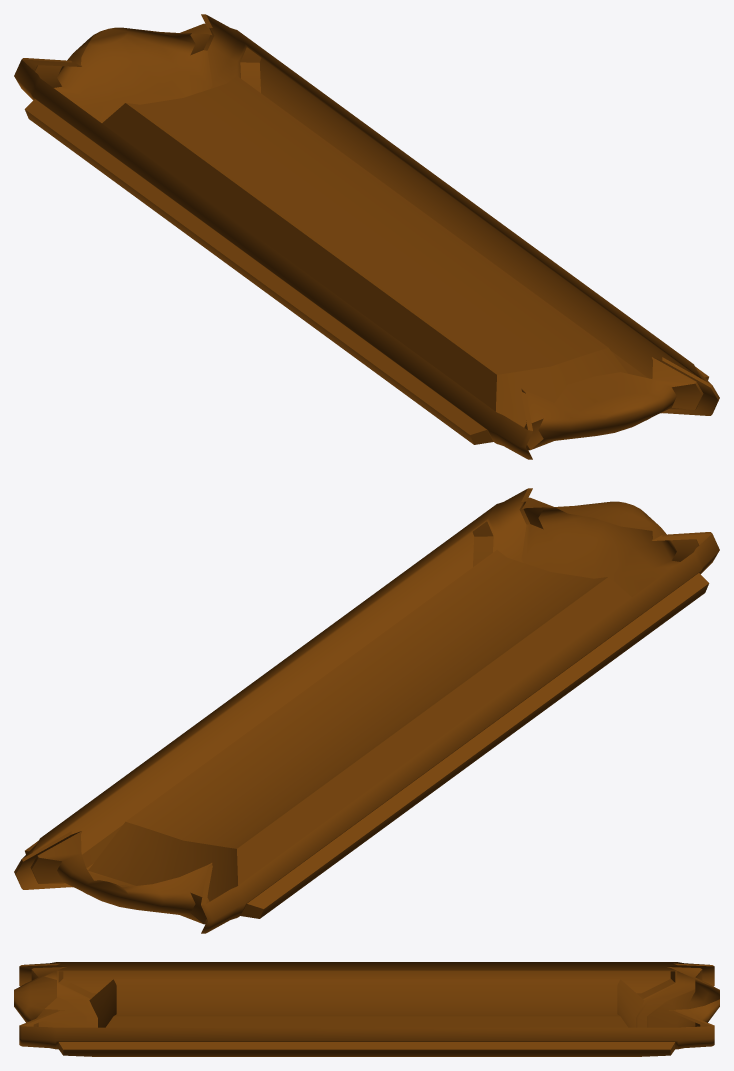
The model's file is Ceiling Light support.FBX.
3 renders of one model, top to bottom at view 1: azimuth 30°, elevation 25°; view 2: azimuth 150°, elevation 25°; view 3: azimuth 270°, elevation 25°, orthographic. The views are drawn at different scales.
Visible parts, largest first — view 1: OilTank001; view 2: OilTank001; view 3: OilTank001.
Part boxes in pixels (x1=…): OilTank001: x1=14, y1=14, x2=719, y2=459; OilTank001: x1=14, y1=488, x2=719, y2=933; OilTank001: x1=14, y1=962, x2=719, y2=1056.
Size of the model in its own units: 286 by 78.3 by 1074.
